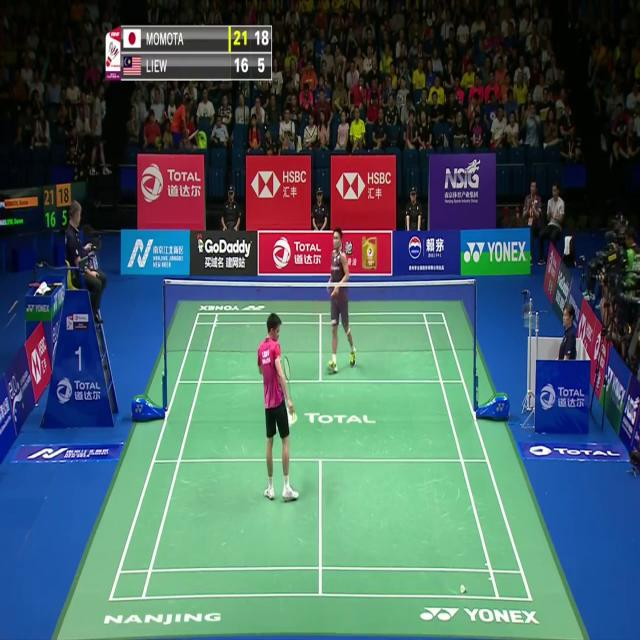Shuttlecock: (459, 582, 466, 593)
